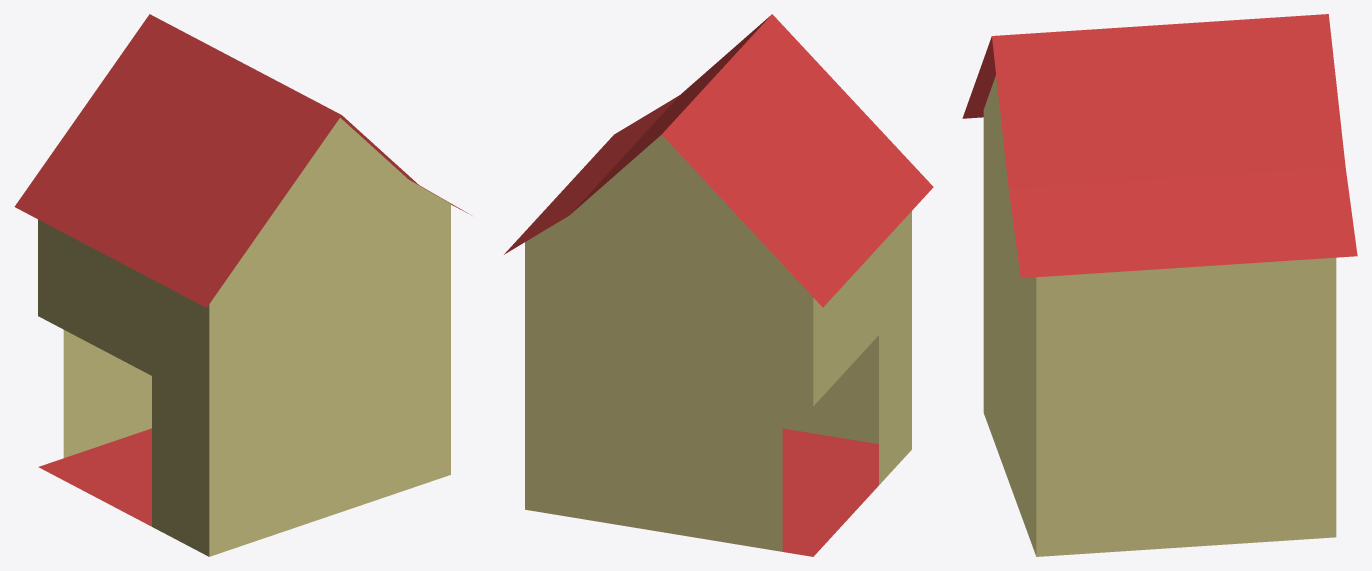
3 renders of one model, left to right at view 1: azimuth 30°, elevation 25°; view 2: azimuth 150°, elevation 25°; view 3: azimuth 270°, elevation 25°, orthographic. The views are drawn at different scales.
Size of the model in its own units: 11.47 by 10.56 by 13.29.
